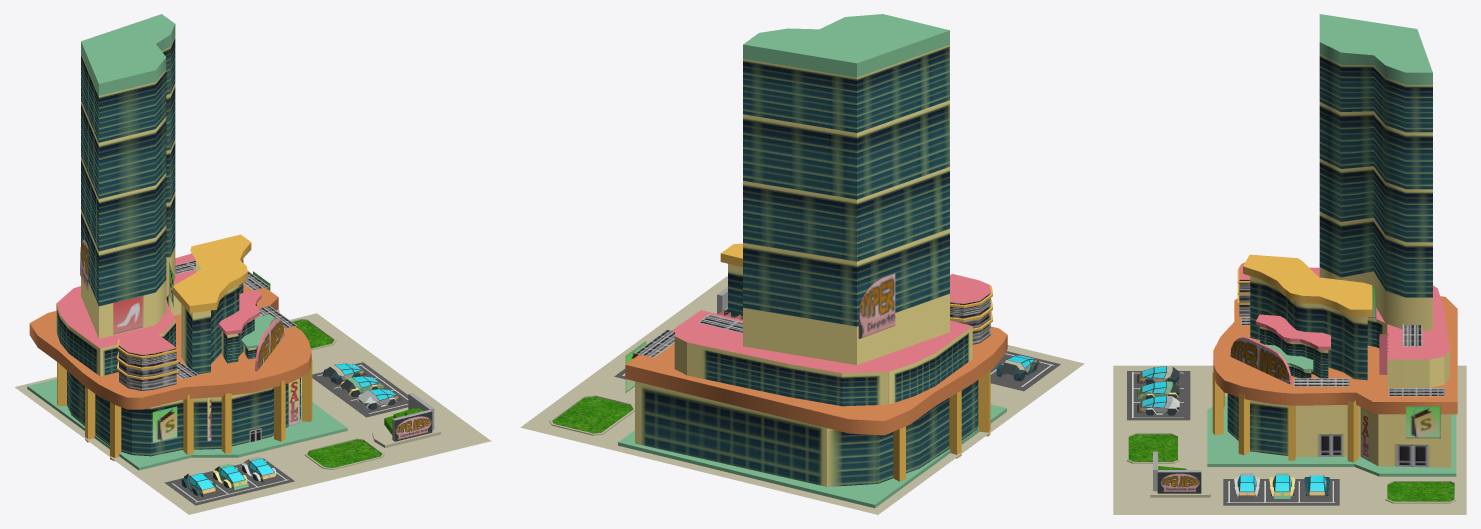
The model's file is departmentstore_LV3.fbx.
The picture shows the model from 3 angles, left to right: view 1: azimuth 30°, elevation 25°; view 2: azimuth 150°, elevation 25°; view 3: azimuth 270°, elevation 25°; orthographic projection. The views are drawn at different scales.
Parts seen in each view (by area): view 1: mall level 3; view 2: mall level 3; view 3: mall level 3.
Part boxes in pixels (x1=…): mall level 3: x1=14, y1=14, x2=491, y2=514; mall level 3: x1=520, y1=14, x2=1084, y2=514; mall level 3: x1=1113, y1=14, x2=1466, y2=514.
Bounding box in the file's own units: 122 × 135 × 120.
